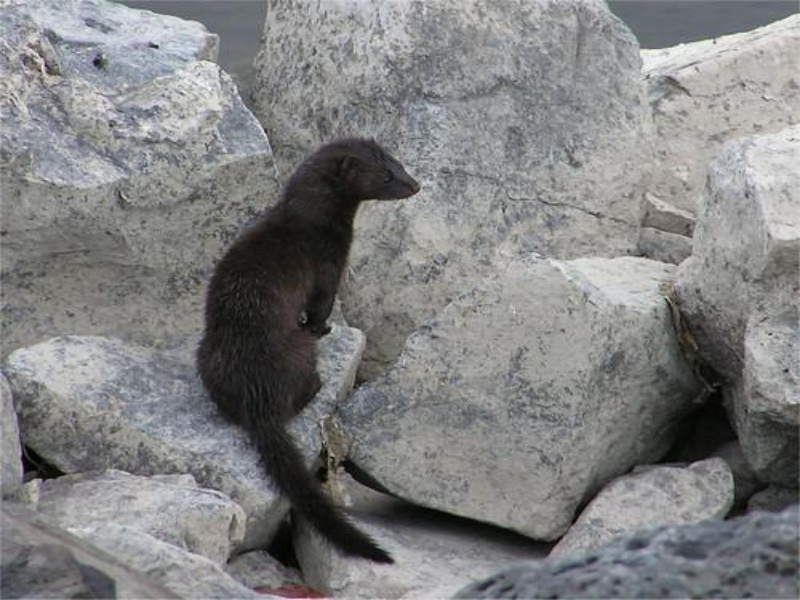minkish: (192, 135, 423, 562)
